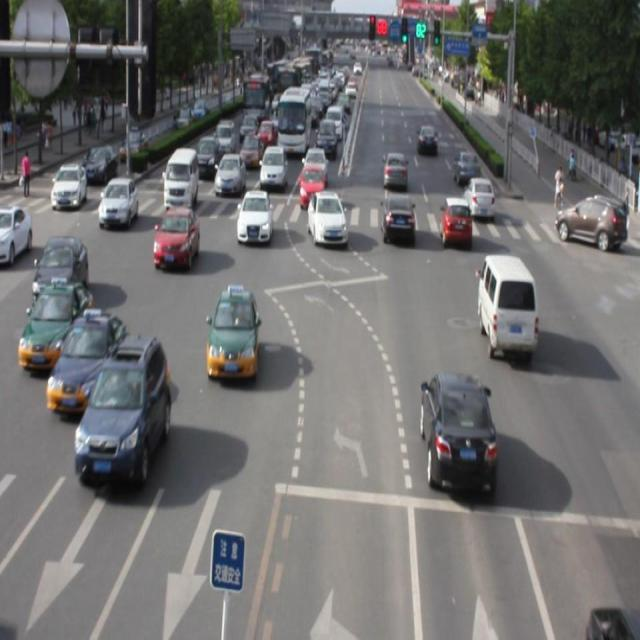BigCar: (269, 78, 314, 159)
car: (79, 332, 175, 496), (412, 370, 504, 495), (47, 305, 121, 417), (471, 256, 542, 356), (207, 281, 263, 389), (556, 183, 626, 263), (20, 278, 77, 374), (150, 196, 202, 276), (159, 134, 204, 220), (33, 226, 86, 299), (306, 185, 354, 256), (231, 176, 273, 252), (430, 188, 474, 248), (97, 172, 138, 236), (50, 150, 87, 217), (376, 197, 420, 252), (372, 143, 416, 196), (212, 158, 245, 202), (410, 117, 440, 165), (470, 172, 497, 219), (451, 155, 487, 188)
